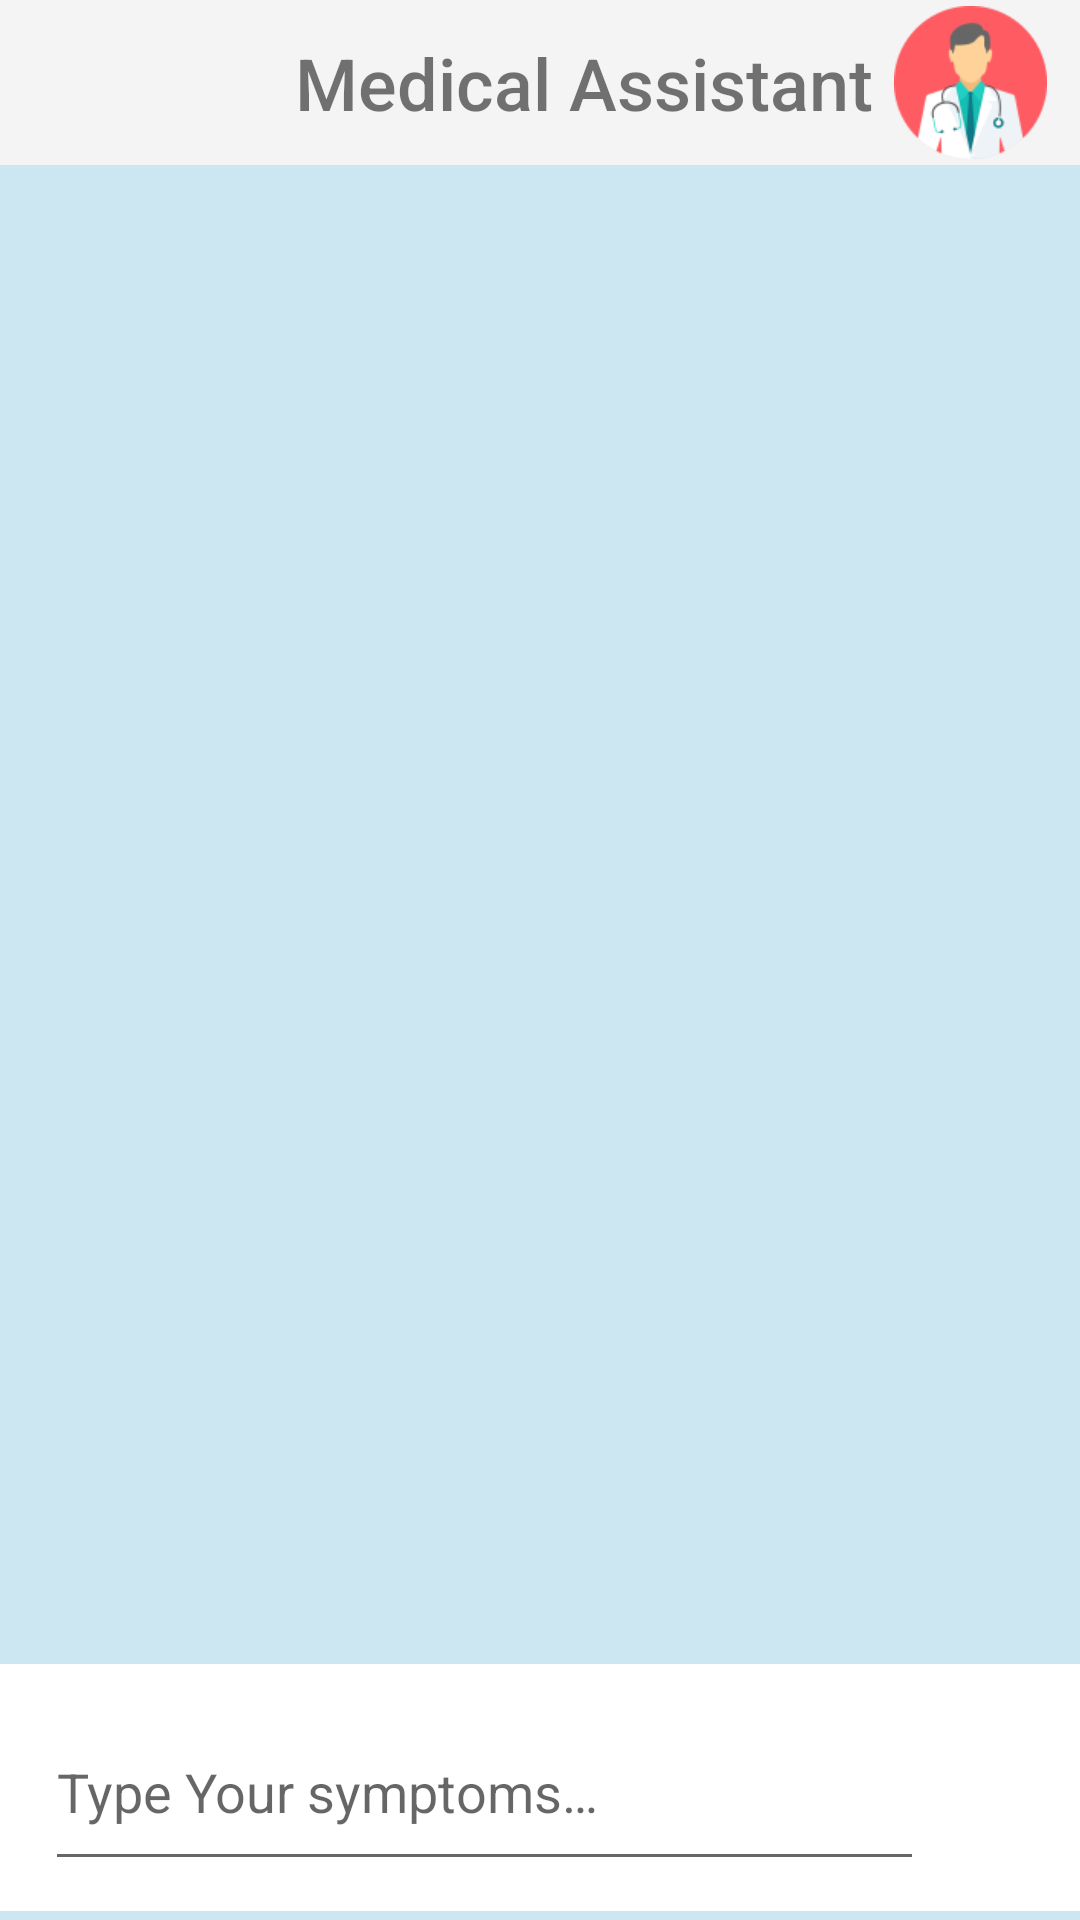

Where to tap for icons on this 1080 × 1920 app screen, as [x,y]:
doctor: [970,79]
